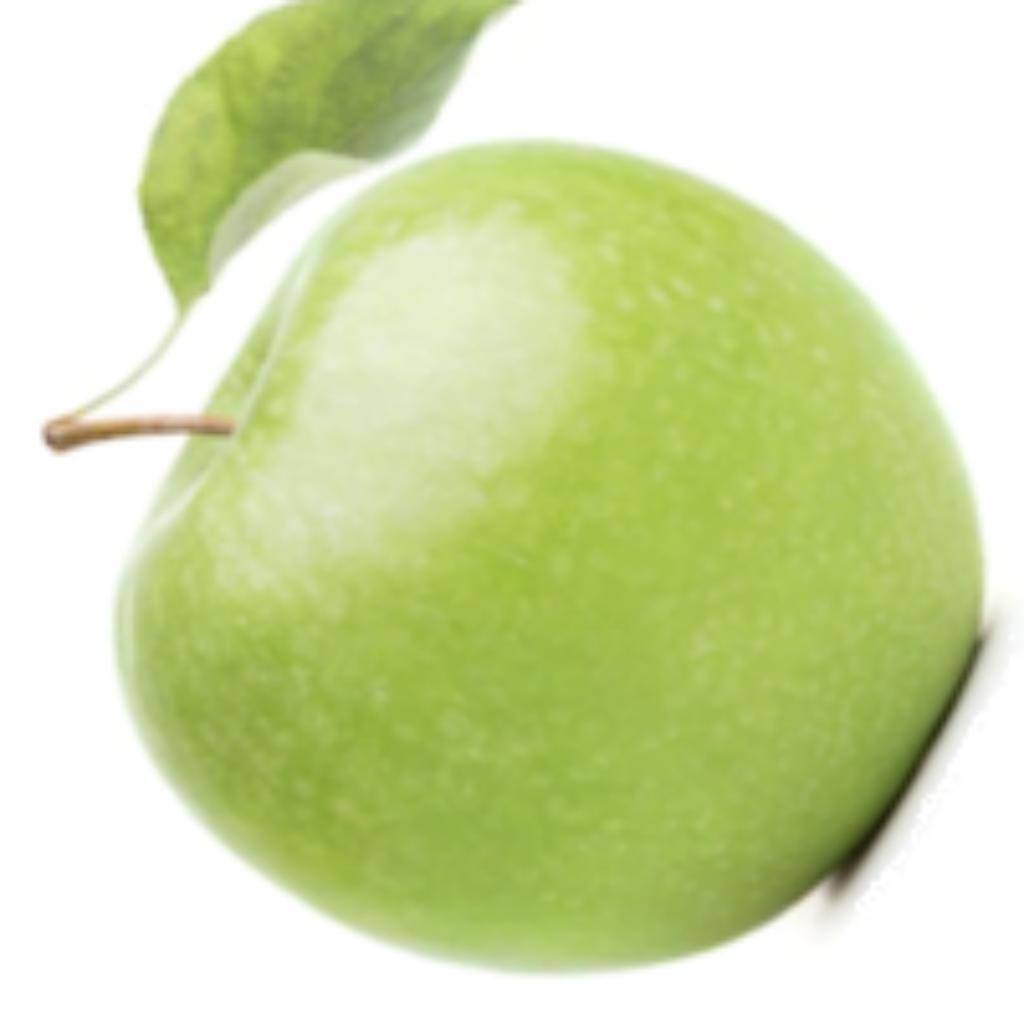apple: (31, 0, 1019, 978)
